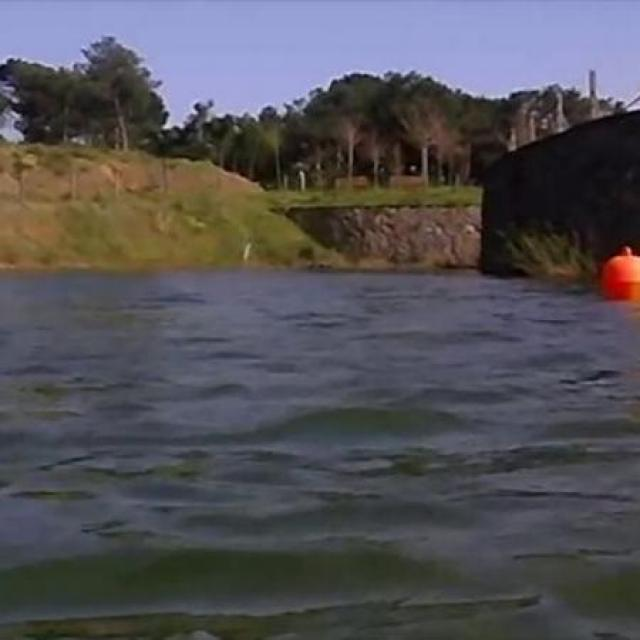buoy: (600, 248, 640, 304)
